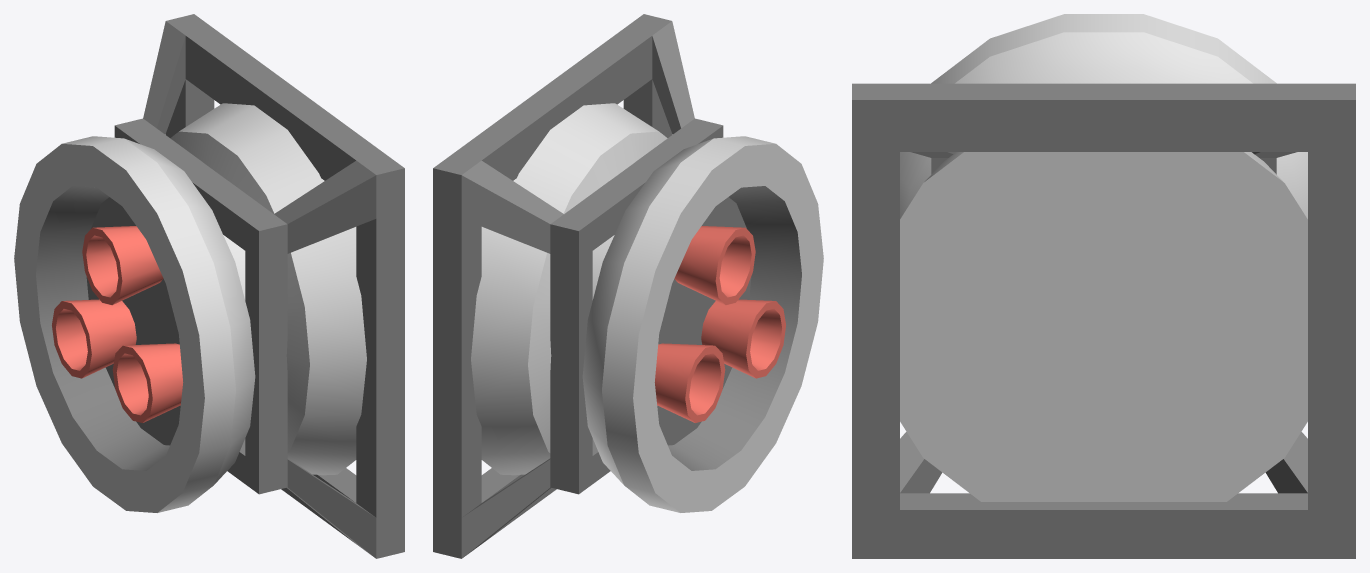
Rendered from rocket_5.fbx.
The picture shows the model from 3 angles, left to right: view 1: azimuth 30°, elevation 25°; view 2: azimuth 150°, elevation 25°; view 3: azimuth 270°, elevation 25°; orthographic projection. The views are drawn at different scales.
Visible parts, largest first — view 1: rocket_5; view 2: rocket_5; view 3: rocket_5.
Boxes of the visible parts, left/top/right/bottom form: rocket_5: left=14, top=14, right=404, bottom=558; rocket_5: left=433, top=14, right=823, bottom=558; rocket_5: left=852, top=14, right=1355, bottom=558.
Bounding box in the file's own units: 76.92 × 143 × 142.
